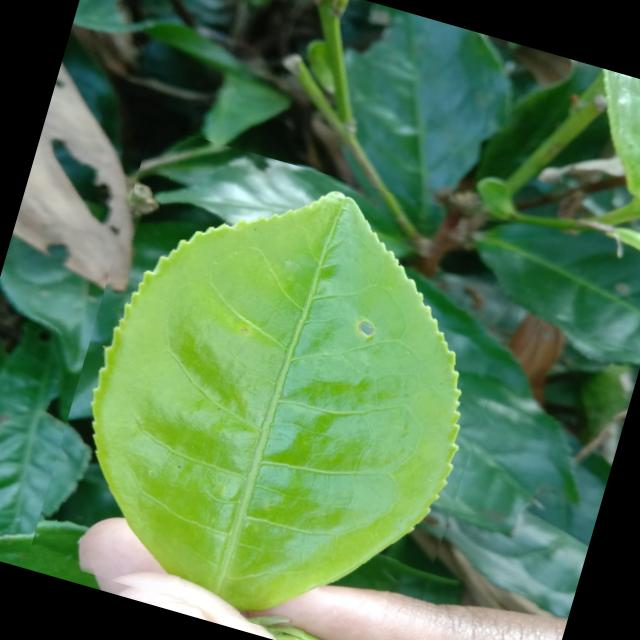Category B 2-4 days: (26, 124, 540, 640)
